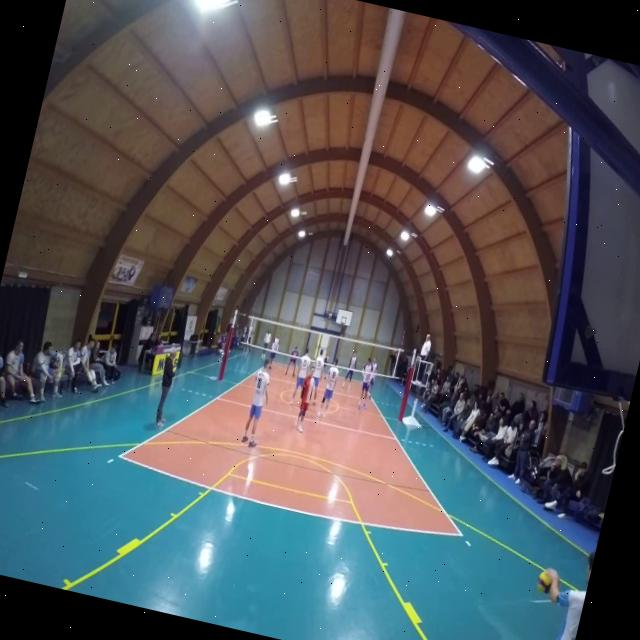Volleyball: (530, 565, 559, 601)
